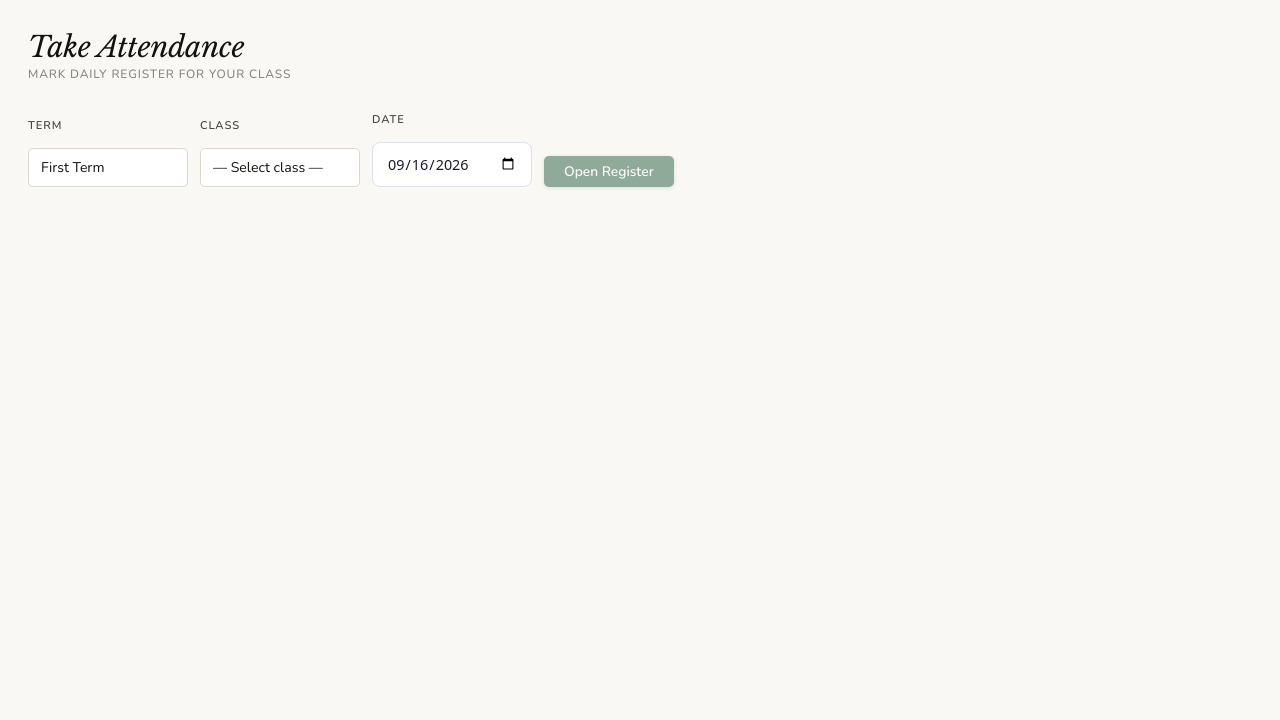
it: teacher opens a register, marks absence with a remark, saves and locks it
This screenshot has width=1280, height=720.
Expected: the dropdown below "Term" shows "First Term", 28,148 -> 188,187
Select "JSS1 A" in the 2nd dropdown: (280, 168) 200,148 -> 360,187
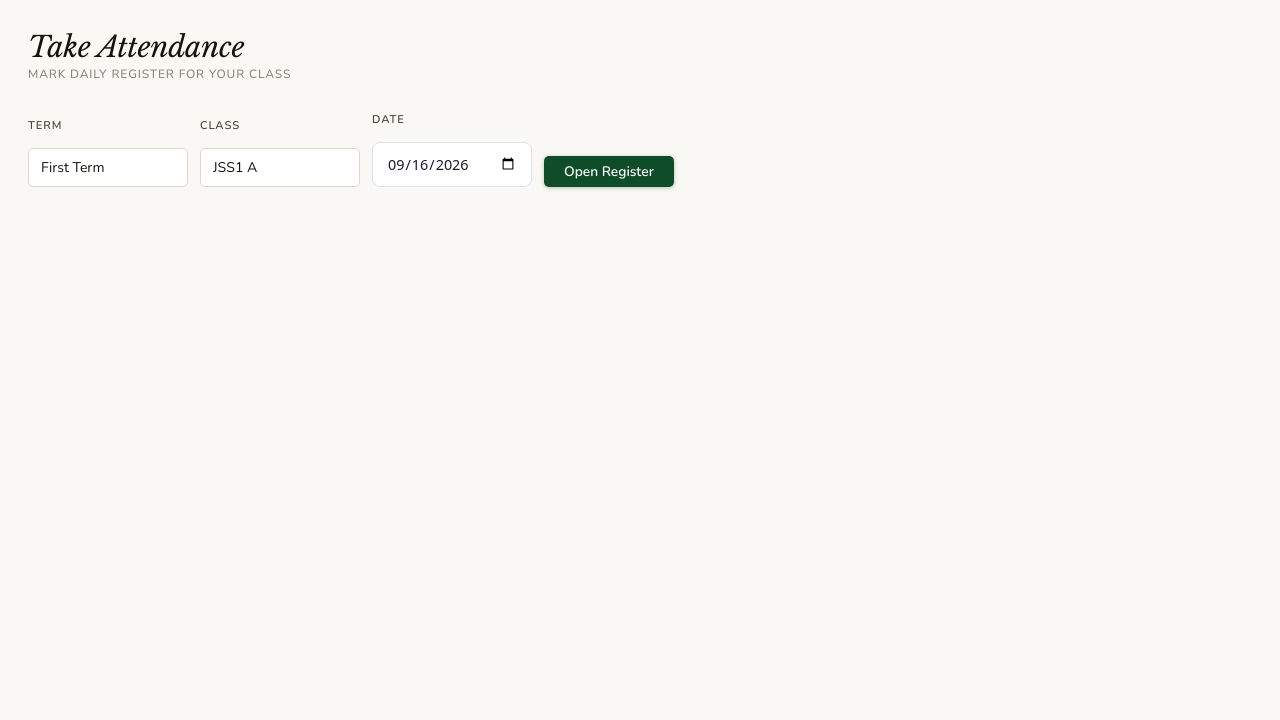
Click the button "Open Register": (609, 172) 544,156 -> 674,187
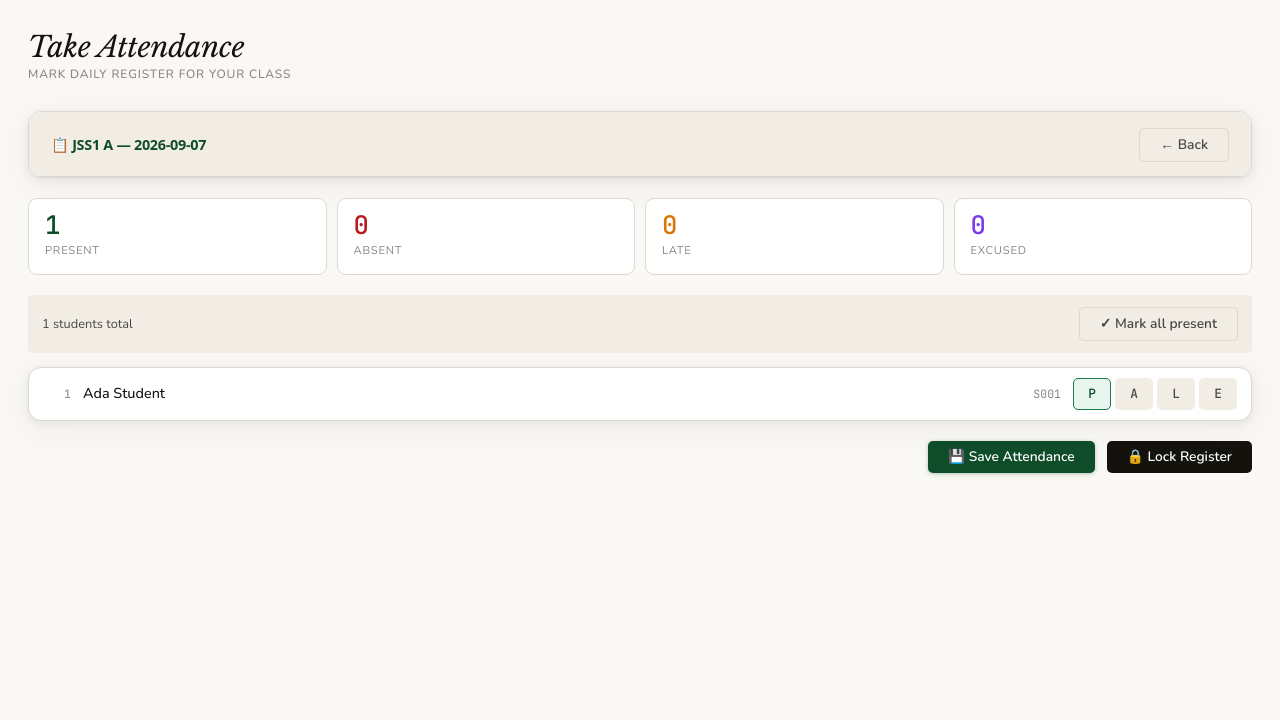
Expected: the text "Ada Student" is shown, 83,383 -> 165,403
Click the button titled "Absent": (1134, 394) 1115,378 -> 1153,410
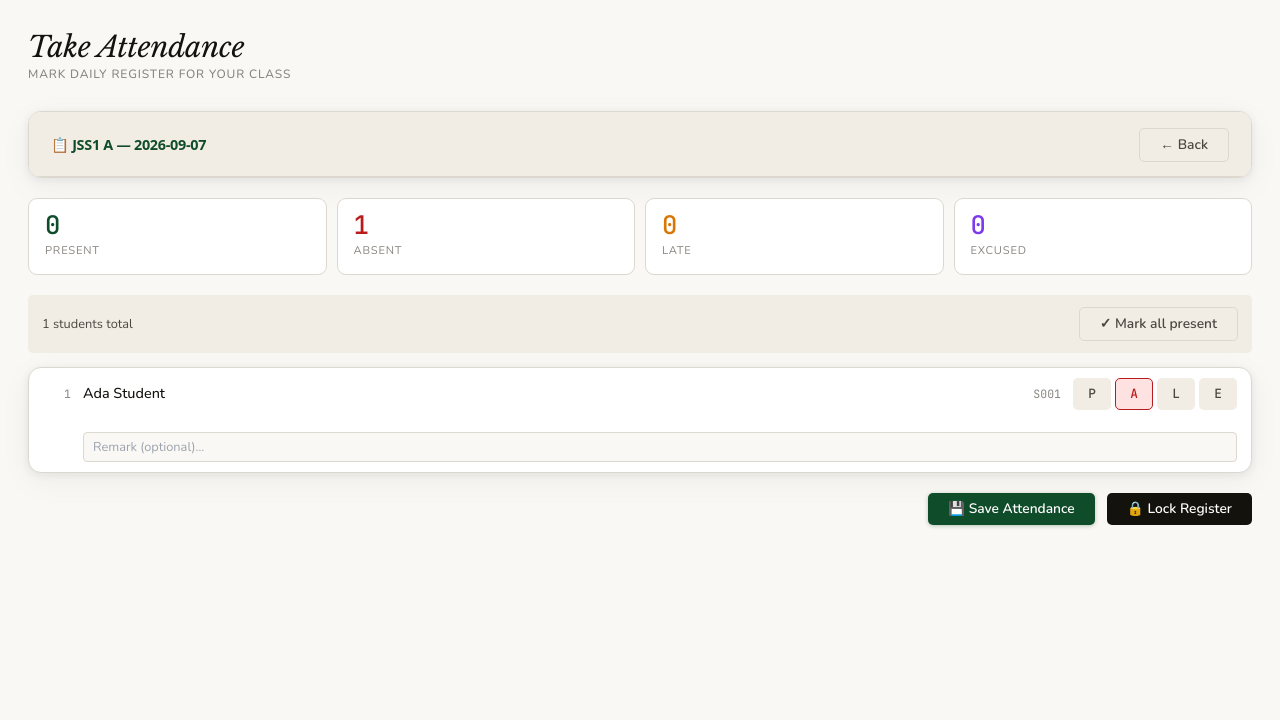
In the field with placeholder "Remark (optional)…": (660, 447) 83,432 -> 1237,462, type "Reported ill"
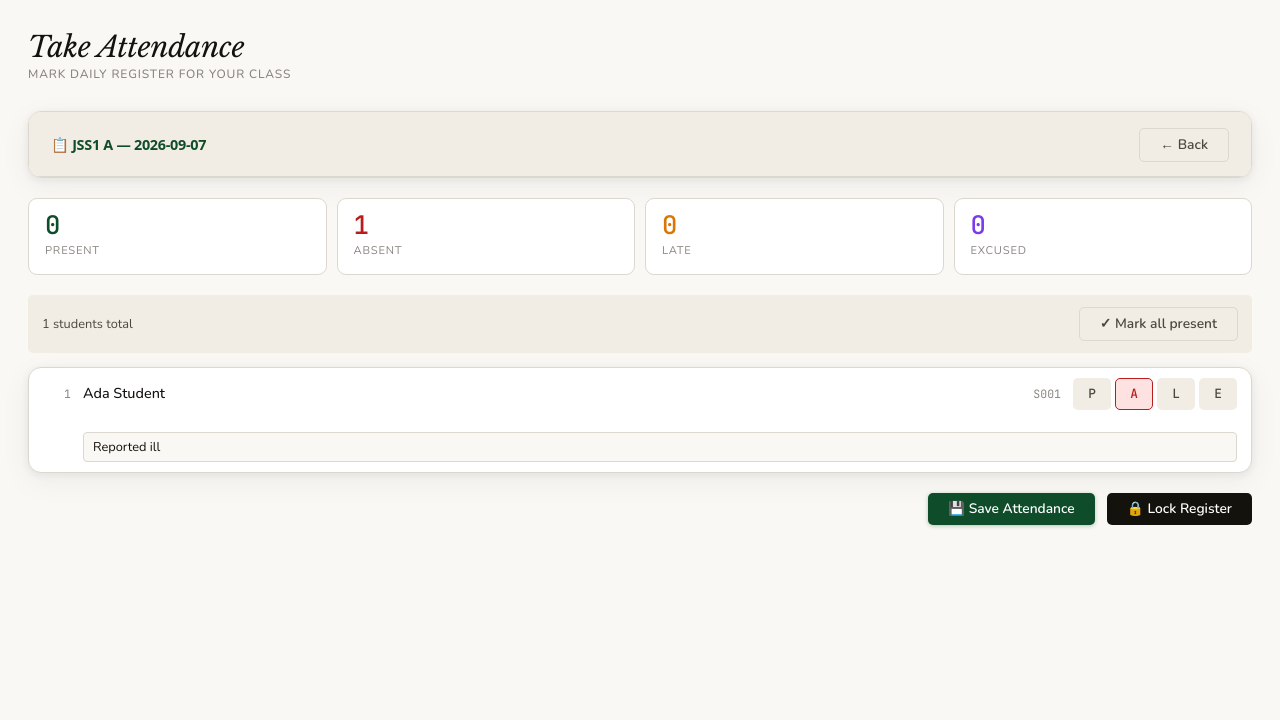
Click the button "💾 Save Attendance": (1011, 509) 928,493 -> 1095,525
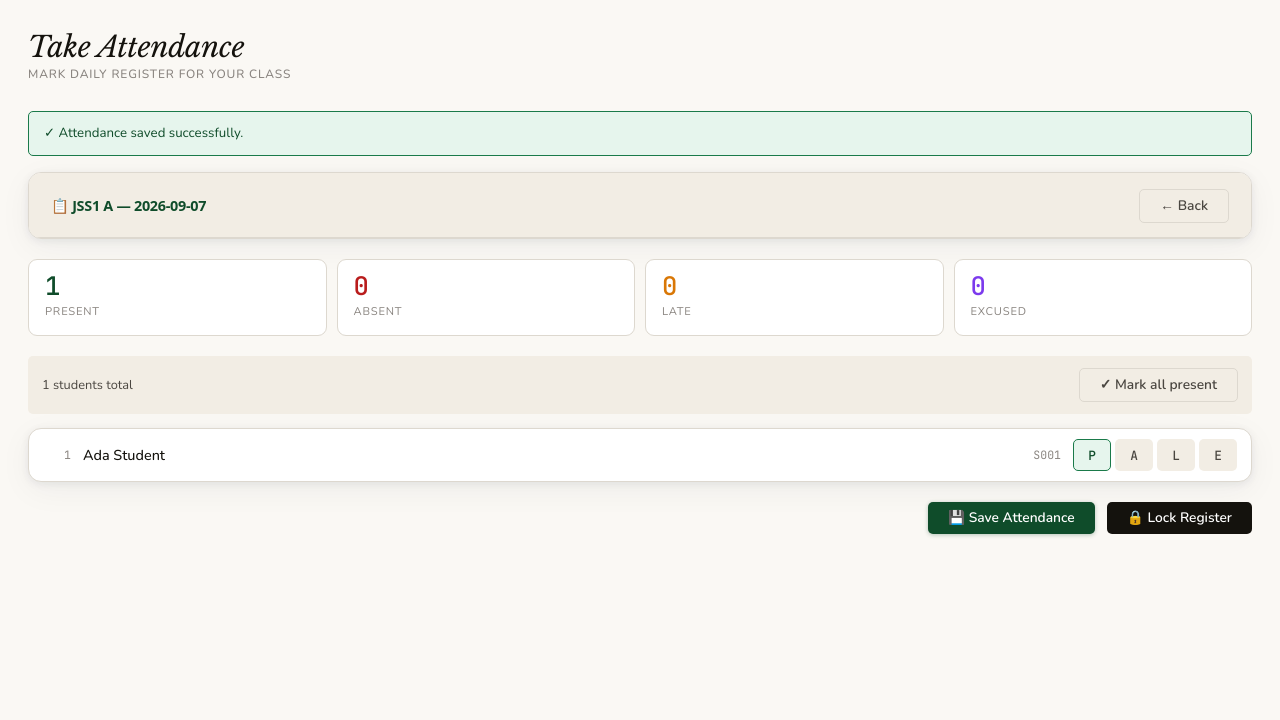
Expected: the button "🔒 Lock Register" is enabled
Click the button "🔒 Lock Register": (1179, 518) 1107,502 -> 1252,534
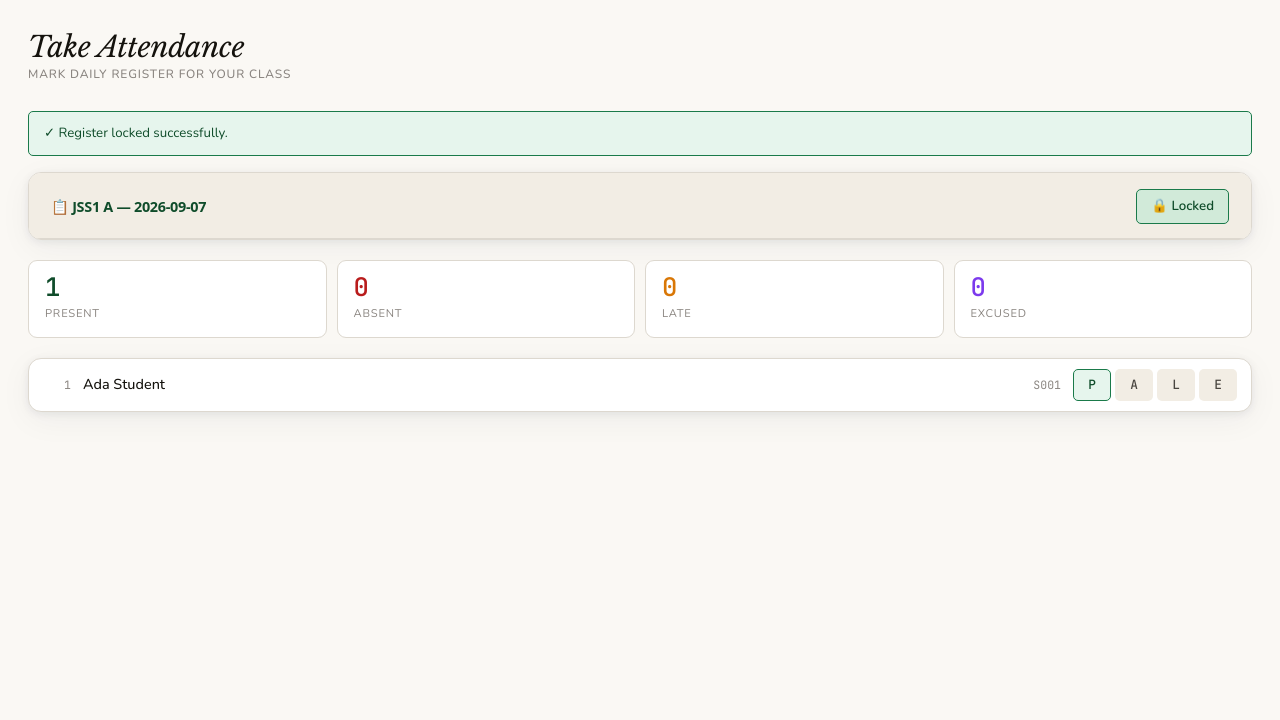
Expected: the text "✓ Register locked successfully." is shown, 28,111 -> 1252,156
Expected: the button titled "Present" is disabled, 1073,369 -> 1111,401
